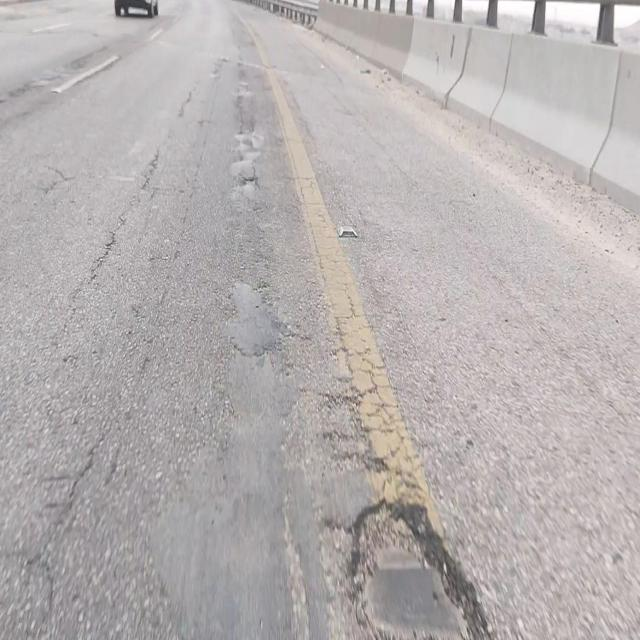Potholes: (348, 494, 493, 640)
